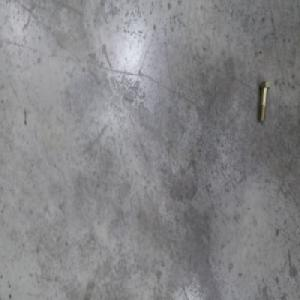Bolt: (254, 79, 267, 123)
